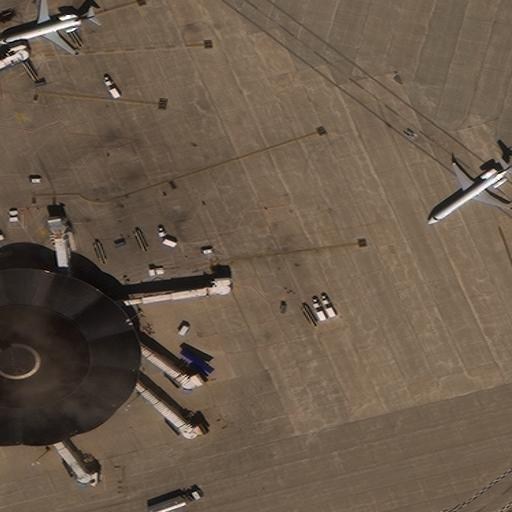Medium Civil Transport: (0, 0, 95, 55), (427, 162, 511, 224)
